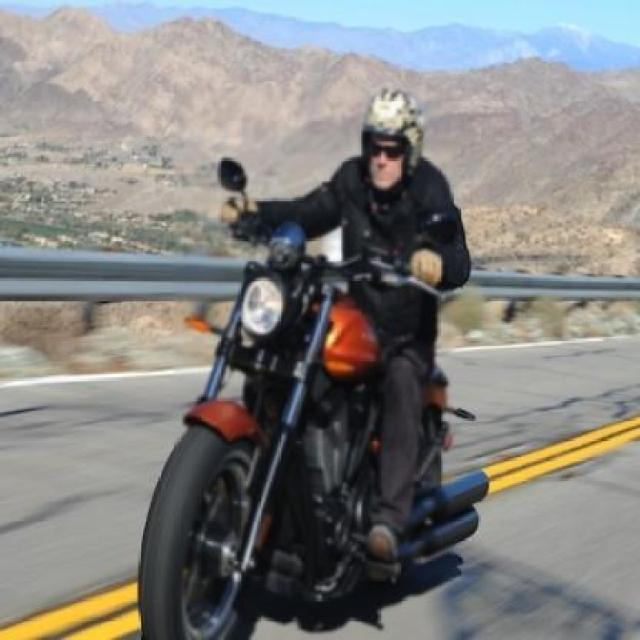helmet: (321, 62, 432, 221)
motorcycle: (100, 39, 530, 640)
